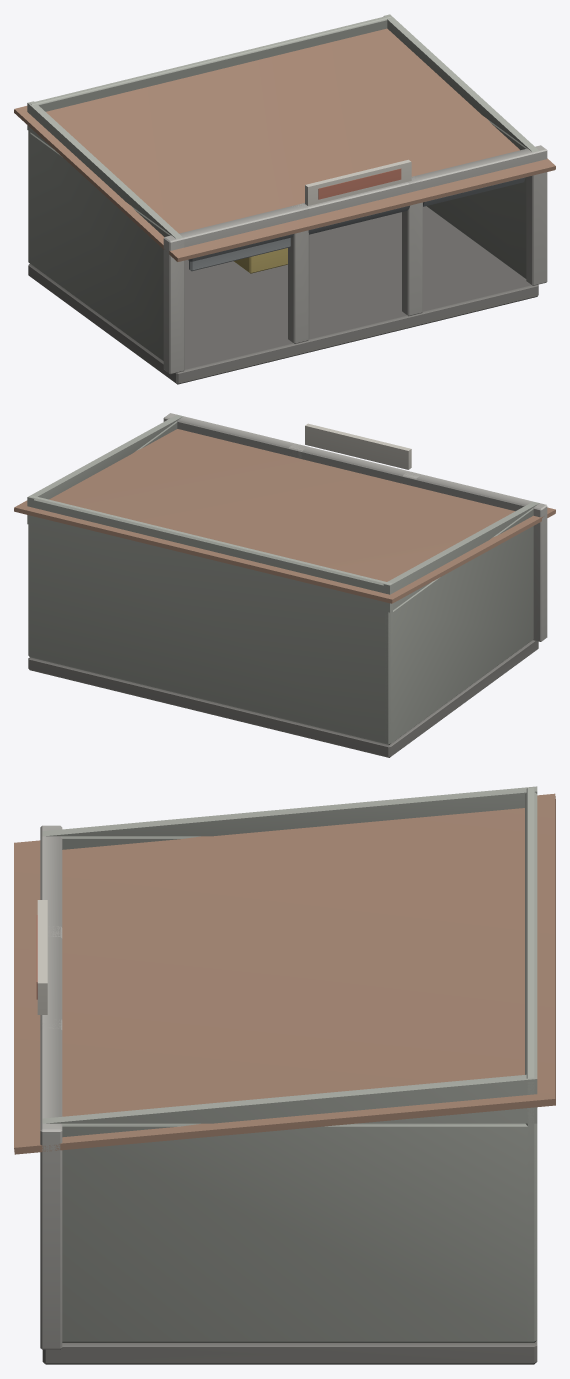
File: mil_workshop.glb
3 renders of one model, top to bottom at view 1: azimuth 30°, elevation 25°; view 2: azimuth 150°, elevation 25°; view 3: azimuth 270°, elevation 25°, orthographic. The views are drawn at different scales.
Parts seen in each view (by area): view 1: mil_workshop; view 2: mil_workshop; view 3: mil_workshop.
Part boxes in pixels (left/top/right/bottom): mil_workshop: left=14, top=14, right=555, bottom=384; mil_workshop: left=14, top=413, right=555, bottom=757; mil_workshop: left=14, top=786, right=555, bottom=1364.
Size of the model in its own units: 14.6 by 6.4 by 10.96.
